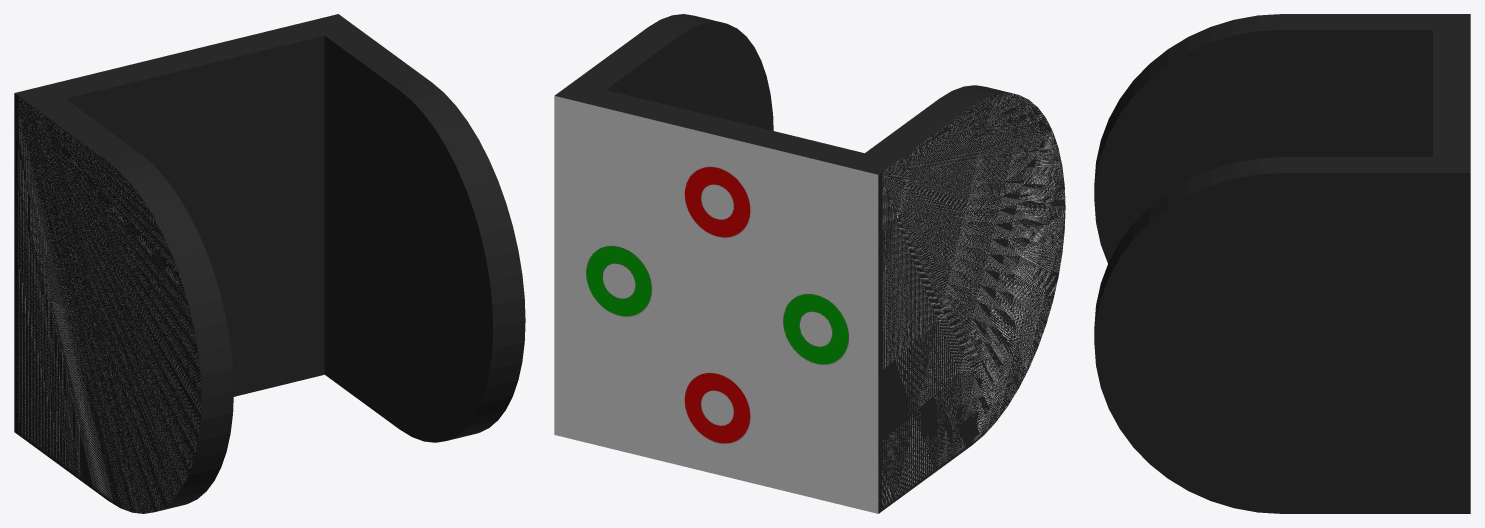
The model's file is BackFrame.dae.
The picture shows the model from 3 angles, left to right: view 1: azimuth 30°, elevation 25°; view 2: azimuth 150°, elevation 25°; view 3: azimuth 270°, elevation 25°; orthographic projection.
Visible parts, largest first — view 1: node; view 2: node; view 3: node.
Boxes of the visible parts, x1=… form: node: x1=14, y1=14, x2=525, y2=513; node: x1=554, y1=14, x2=1065, y2=513; node: x1=1094, y1=14, x2=1470, y2=513.
Size of the model in its own units: 1 by 1 by 1.
